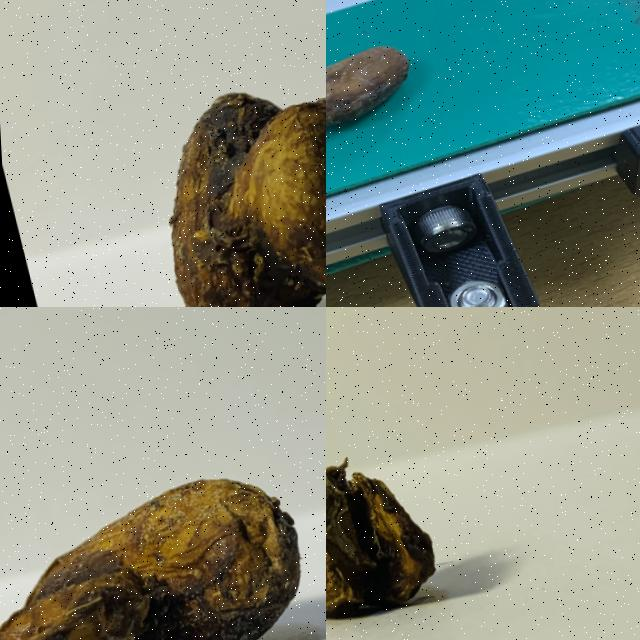Agglomerated_cocoabeans: (0, 399, 325, 639), (85, 33, 325, 306)
Fine_cocoabeans: (326, 0, 478, 228)
Flat_cocoabeans: (326, 407, 529, 639)
